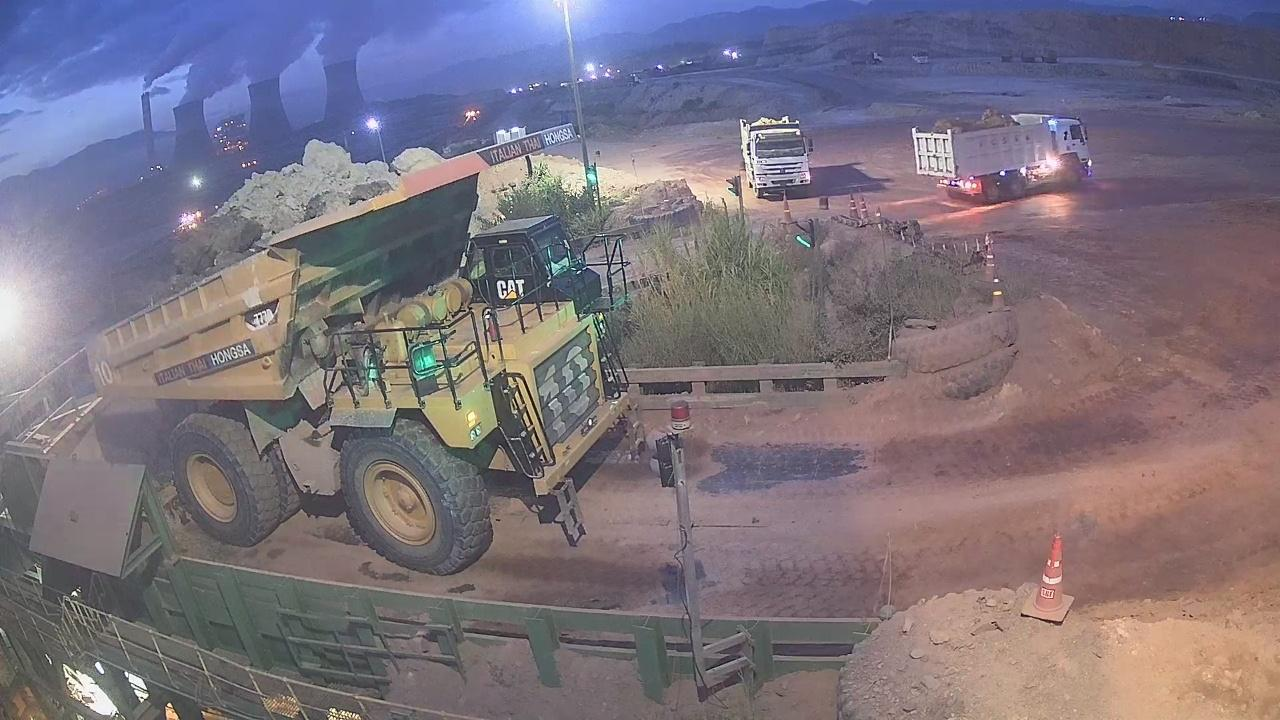company: (147, 339, 262, 386)
dumping_soil: (81, 90, 648, 577)
front_number: (538, 324, 602, 442)
full_load: (162, 131, 432, 280)
tail_number: (90, 357, 120, 392)
truck_size: (240, 301, 289, 334)
